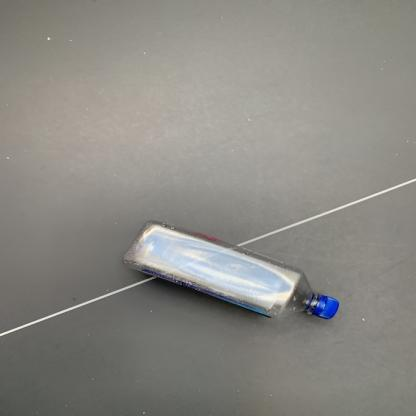trash: (122, 217, 344, 325)
